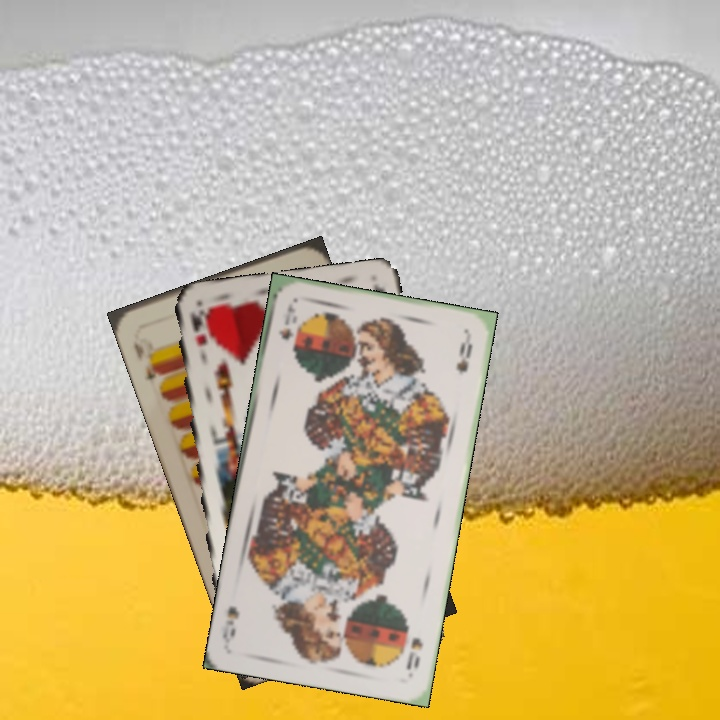E10: (129, 337, 165, 383)
HK: (186, 306, 211, 348)
SO: (402, 633, 426, 678), (274, 301, 299, 343)
